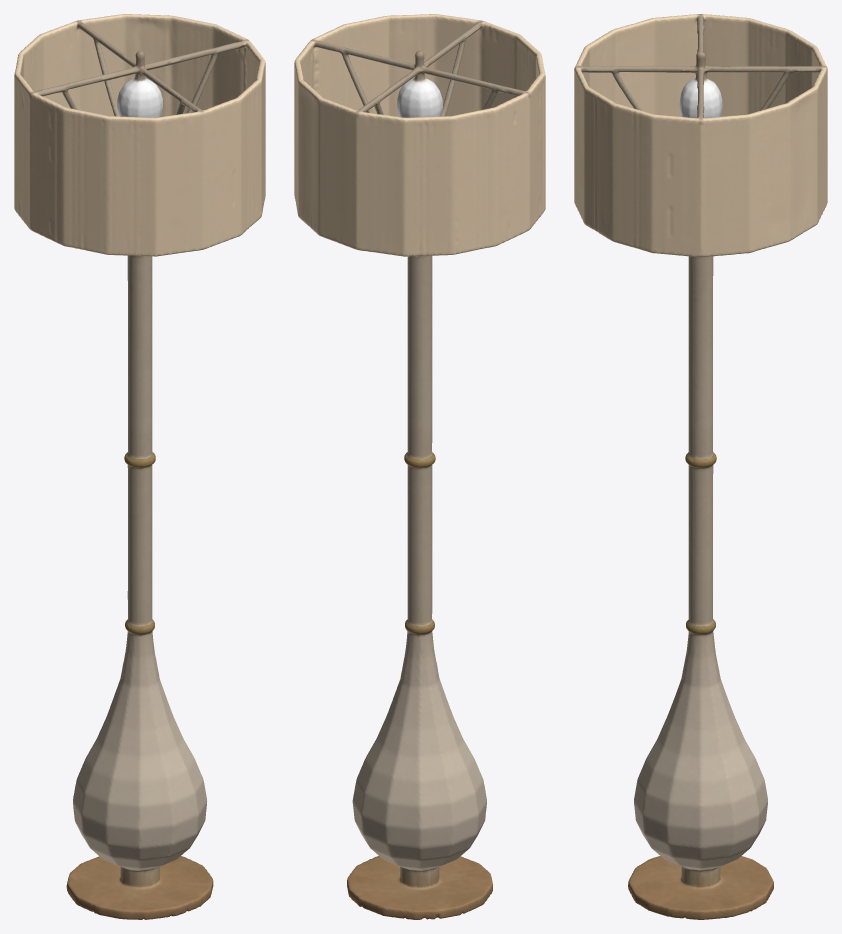
The model's file is FloorLamp.glb.
The picture shows the model from 3 angles, left to right: view 1: azimuth 30°, elevation 25°; view 2: azimuth 150°, elevation 25°; view 3: azimuth 270°, elevation 25°; orthographic projection.
Visible parts, largest first — view 1: world; view 2: world; view 3: world.
Part boxes in pixels (x1,y1,x2,y2): world: (14,14,265,919); world: (294,14,545,919); world: (574,14,827,919).
Bounding box in the file's own units: 0.2752 × 1 × 0.2752.
Materials: 1 (1 with a texture image).
